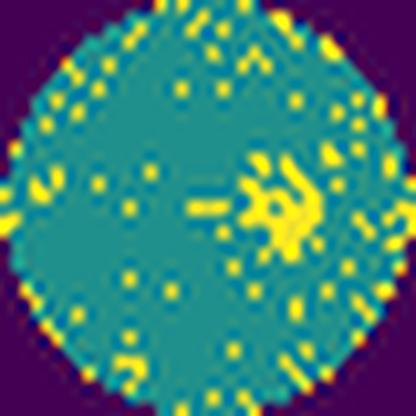Loc: (236, 155, 323, 265)
